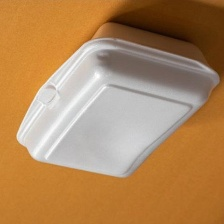foam_box: (11, 17, 224, 182)
